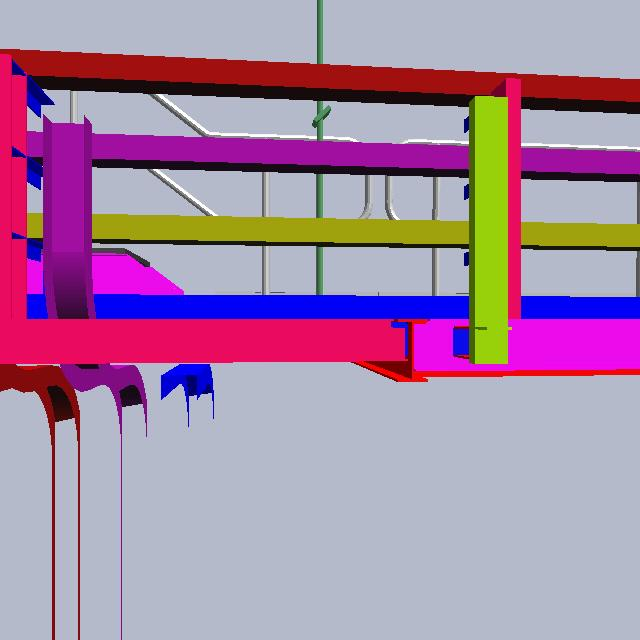Poste: (304, 1, 330, 330)
Soporte: (449, 89, 530, 395)
